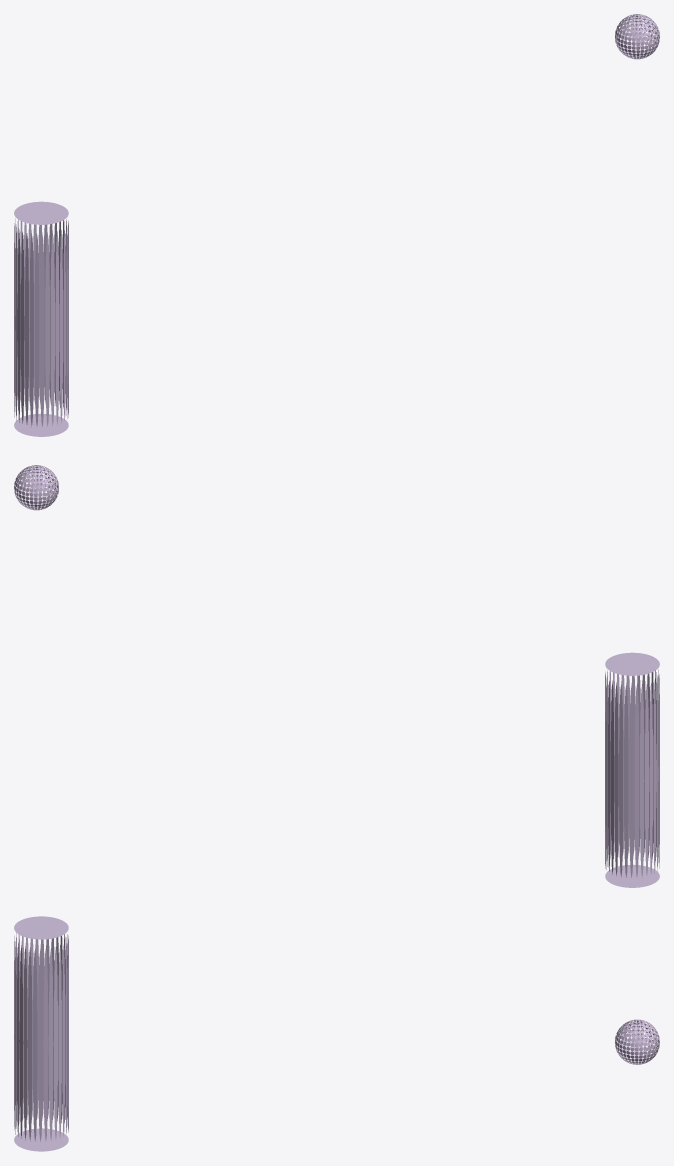
The model's file is CH_Companion2_PBR.glb.
3 views of the same model, one above another, from view 1: azimuth 30°, elevation 25°; view 2: azimuth 150°, elevation 25°; view 3: azimuth 330°, elevation 25° (orthographic).
Visible parts, largest first — view 1: CH_Companion2_Body, CH_Companion2_Head; view 2: CH_Companion2_Body, CH_Companion2_Head; view 3: CH_Companion2_Body, CH_Companion2_Head.
Boxes of the visible parts, box(x1,y1,x2,y2) form: CH_Companion2_Body: box(14, 201, 68, 436); CH_Companion2_Head: box(615, 14, 659, 59); CH_Companion2_Body: box(605, 652, 659, 887); CH_Companion2_Head: box(14, 465, 58, 510); CH_Companion2_Body: box(14, 916, 68, 1151); CH_Companion2_Head: box(615, 1019, 659, 1064).
Bounding box in the file's own units: 10.73 × 4.23 × 0.7994.
